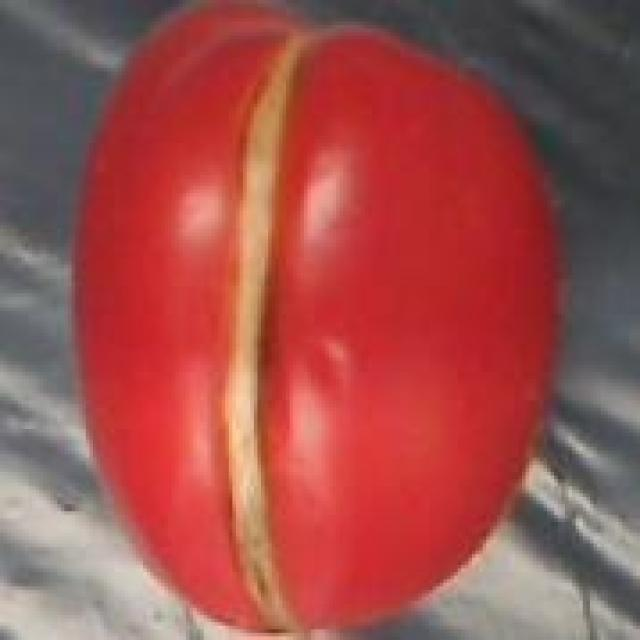overripe tomato: (61, 3, 583, 640)
